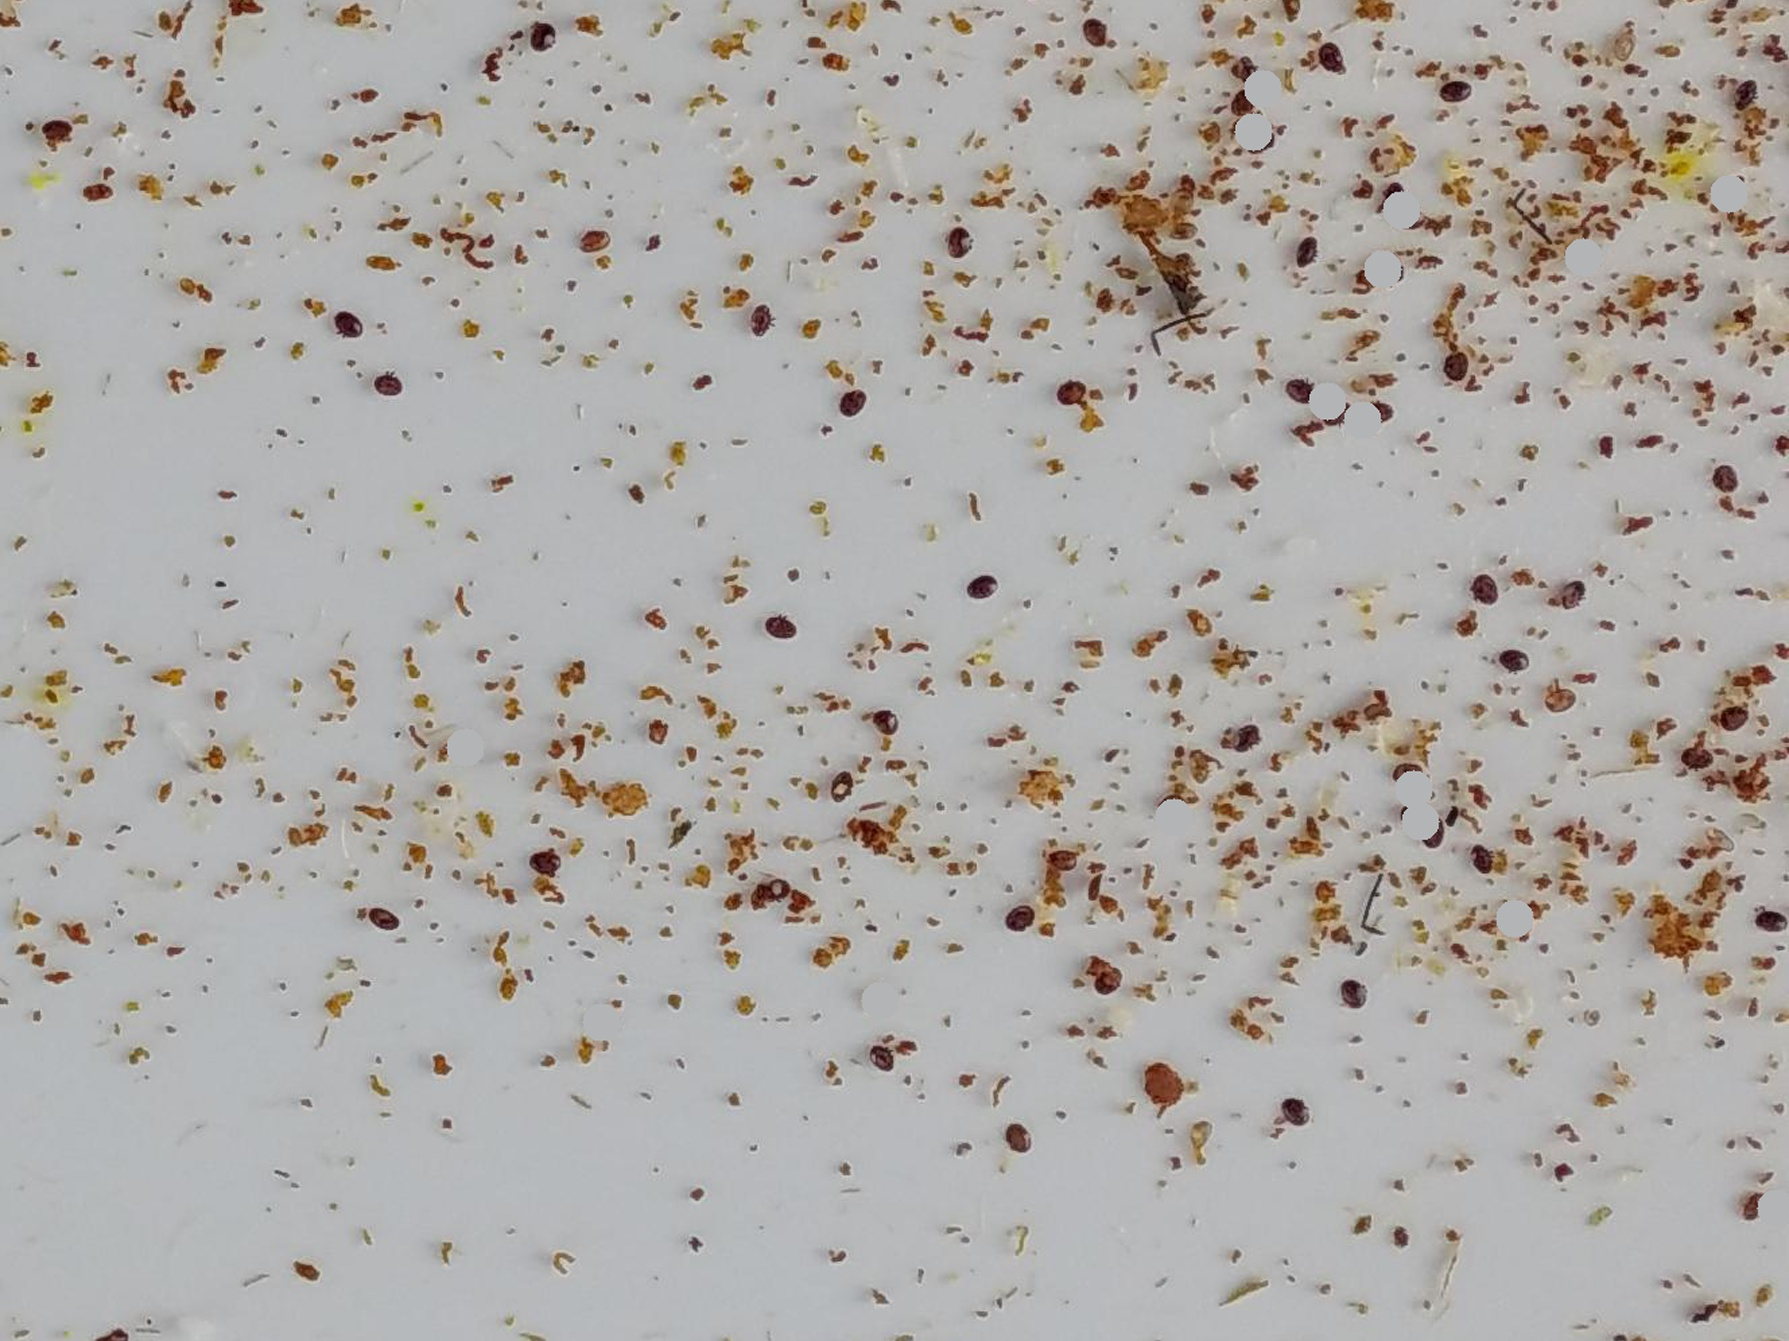Varroa: (1366, 180, 1397, 213), (825, 771, 856, 802), (941, 221, 971, 254), (1230, 54, 1259, 86), (1062, 375, 1085, 416), (754, 873, 783, 903), (365, 902, 393, 933), (1557, 580, 1585, 611), (1273, 1094, 1303, 1123), (868, 707, 897, 735), (1285, 238, 1314, 266), (1386, 758, 1414, 787), (1688, 744, 1710, 780), (1092, 968, 1120, 996), (1079, 20, 1106, 49), (1434, 75, 1462, 101), (1710, 463, 1737, 492), (1335, 980, 1362, 1009), (528, 23, 556, 49), (332, 310, 359, 338), (532, 849, 559, 878), (369, 375, 399, 400), (1233, 724, 1258, 752), (1288, 378, 1313, 406), (1471, 840, 1495, 869), (768, 616, 794, 641), (1471, 572, 1496, 599), (1441, 348, 1466, 375), (966, 570, 993, 596), (1550, 685, 1573, 713), (1426, 820, 1450, 848), (1049, 844, 1069, 878), (56, 118, 77, 149), (999, 1120, 1024, 1145), (1006, 907, 1031, 933), (1158, 786, 1185, 810), (842, 393, 866, 418), (1721, 77, 1747, 101), (1497, 640, 1521, 663), (873, 1049, 893, 1073), (1240, 87, 1258, 113), (1324, 45, 1344, 68), (759, 311, 776, 335), (1371, 397, 1392, 416), (585, 232, 601, 255), (1721, 716, 1743, 732), (1257, 139, 1271, 163), (1335, 408, 1352, 428), (1758, 909, 1776, 925)
